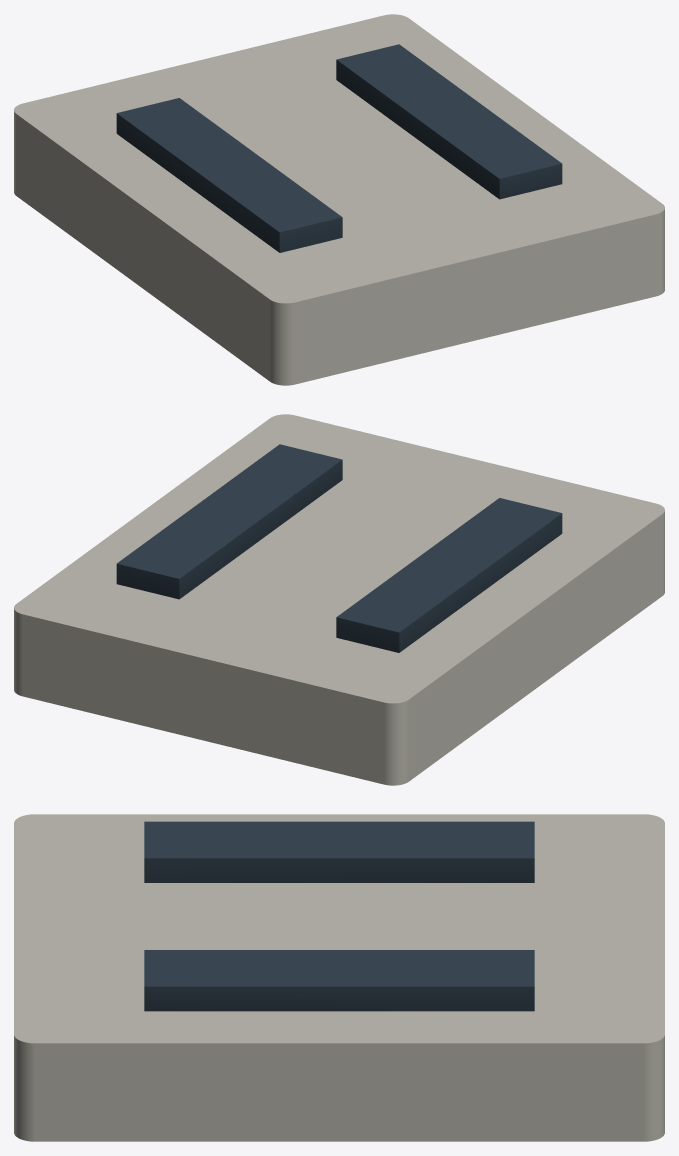
The model's file is road-pier-cap.glb.
3 views of the same model, one above another, from view 1: azimuth 30°, elevation 25°; view 2: azimuth 150°, elevation 25°; view 3: azimuth 270°, elevation 25° (orthographic). The views are drawn at different scales.
Parts seen in each view (by area): view 1: pier headstock, elastomeric bearing; view 2: pier headstock, elastomeric bearing; view 3: pier headstock, elastomeric bearing.
Boxes of the visible parts, x1,y1,x2,y2 form: pier headstock: (14,14,664,385); elastomeric bearing: (116,44,562,252); pier headstock: (14,414,664,785); elastomeric bearing: (116,444,562,652); pier headstock: (14,814,664,1141); elastomeric bearing: (144,821,534,1011).
Bounding box in the file's own units: 1 × 0.25 × 1.2.
